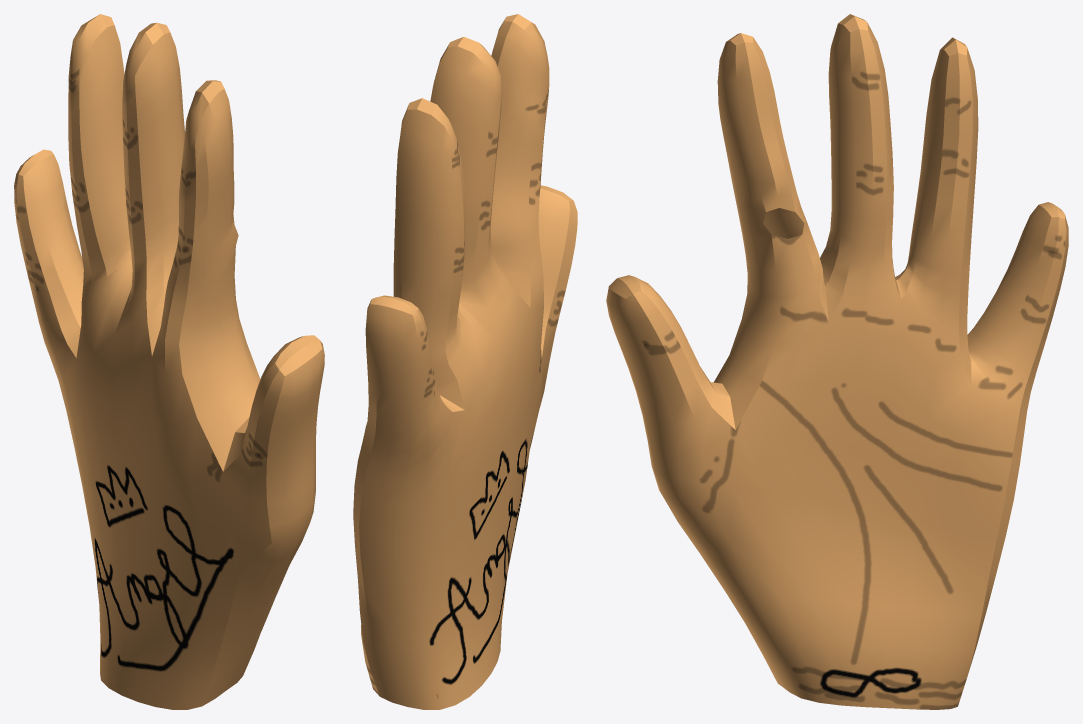
Rendered from HandModel.fbx.
3 renders of one model, left to right at view 1: azimuth 30°, elevation 25°; view 2: azimuth 150°, elevation 25°; view 3: azimuth 270°, elevation 25°, orthographic. The views are drawn at different scales.
Visible parts, largest first — view 1: Cube; view 2: Cube; view 3: Cube.
Boxes of the visible parts, left/top/right/bottom form: Cube: left=14, top=14, right=324, bottom=709; Cube: left=353, top=14, right=577, bottom=709; Cube: left=606, top=14, right=1068, bottom=709.
Size of the model in its own units: 158 by 813 by 500.
